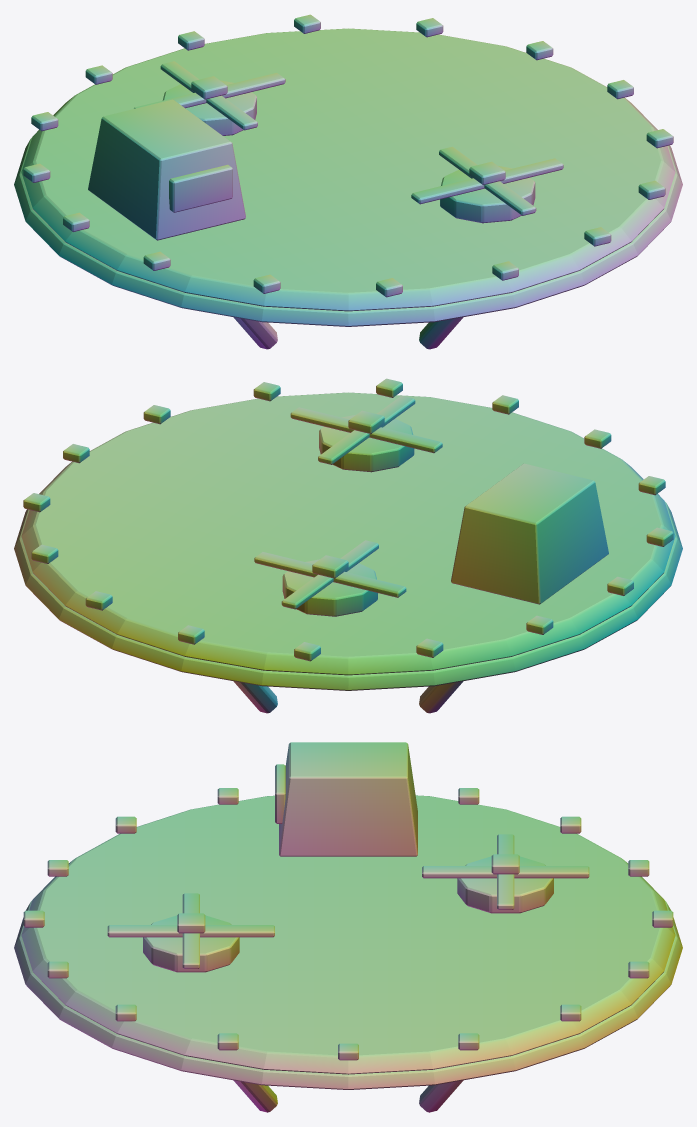
File: addon_air_rig.glb
3 renders of one model, top to bottom at view 1: azimuth 30°, elevation 25°; view 2: azimuth 150°, elevation 25°; view 3: azimuth 270°, elevation 25°, orthographic.
Parts seen in each view (by area): view 1: body; view 2: body; view 3: body.
Part boxes in pixels (box(x1,y1,x2,y2)): body: box(14, 14, 682, 349); body: box(14, 378, 682, 713); body: box(14, 742, 682, 1112).
Size of the model in its own units: 19.16 by 6.38 by 19.16.
